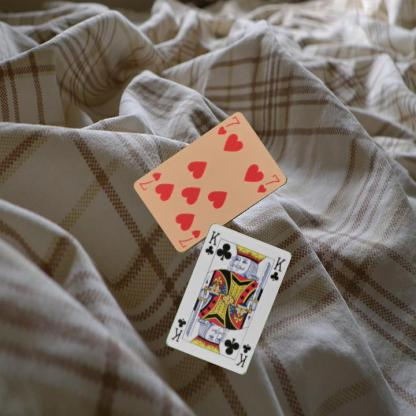7h: (176, 227, 202, 250), (214, 114, 241, 136)
Kc: (202, 228, 222, 257), (234, 342, 252, 369)
